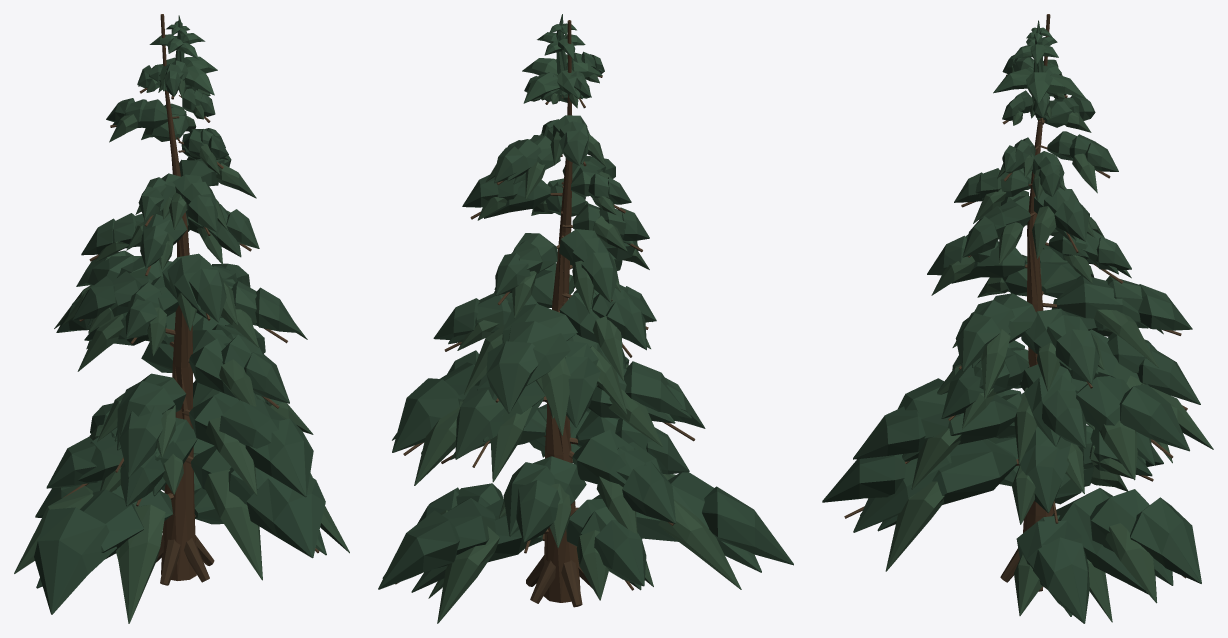
File: shore-pine-juvenile.glb
3 views of the same model, side by side, from view 1: azimuth 30°, elevation 25°; view 2: azimuth 150°, elevation 25°; view 3: azimuth 270°, elevation 25° (orthographic). The views are drawn at different scales.
Visible parts, largest first — view 1: juvenile_foliage, juvenile_trunk; view 2: juvenile_foliage, juvenile_trunk; view 3: juvenile_foliage, juvenile_trunk.
Boxes of the visible parts, x1,y1,x2,y2 form: juvenile_foliage: (14,15,349,623); juvenile_trunk: (63,14,319,585); juvenile_foliage: (378,14,793,623); juvenile_trunk: (395,20,695,607); juvenile_foliage: (822,20,1213,623); juvenile_trunk: (844,14,1187,591).
Size of the model in its own units: 1.77 by 3.05 by 1.94.
